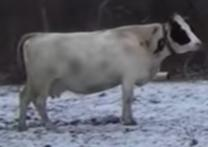cow: (19, 17, 201, 131)
